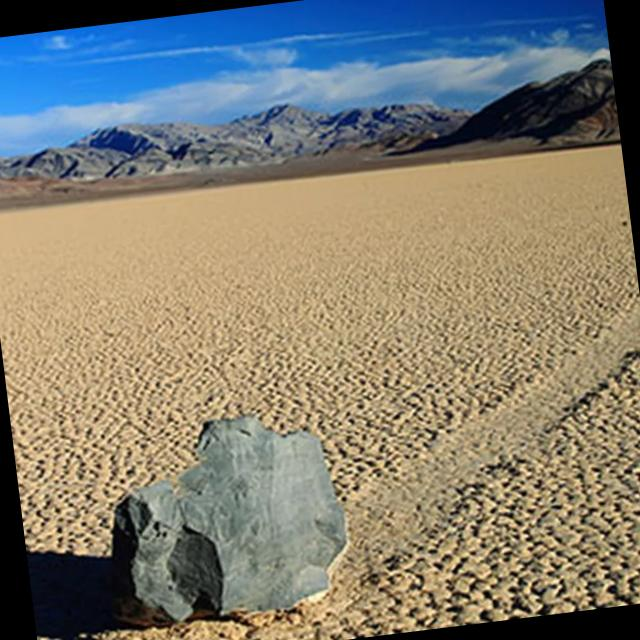stone: (112, 416, 348, 625)
white-sand: (0, 147, 640, 640)
